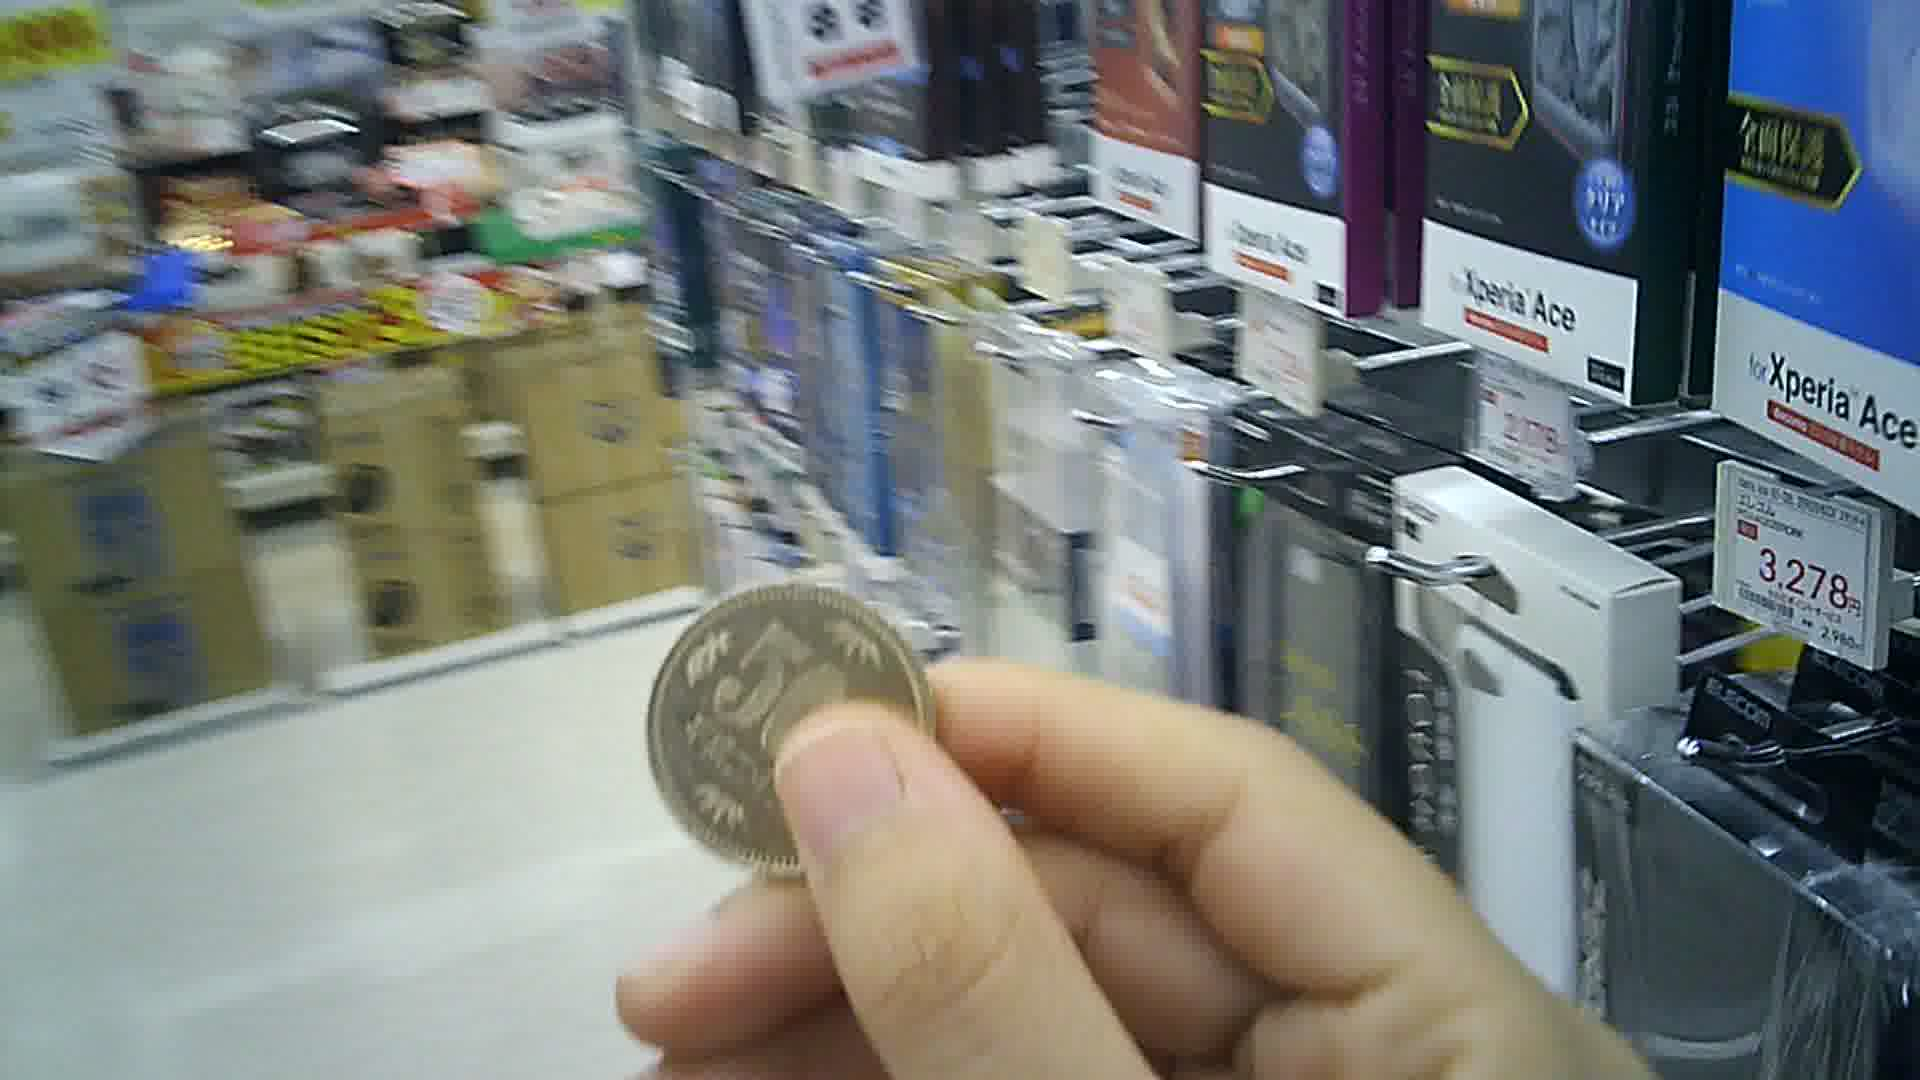500 Yen: (641, 579, 947, 882)
